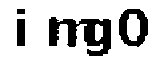0: (118, 3, 150, 49)
g: (84, 15, 113, 60)
i: (13, 4, 30, 52)
m: (43, 17, 92, 46)
